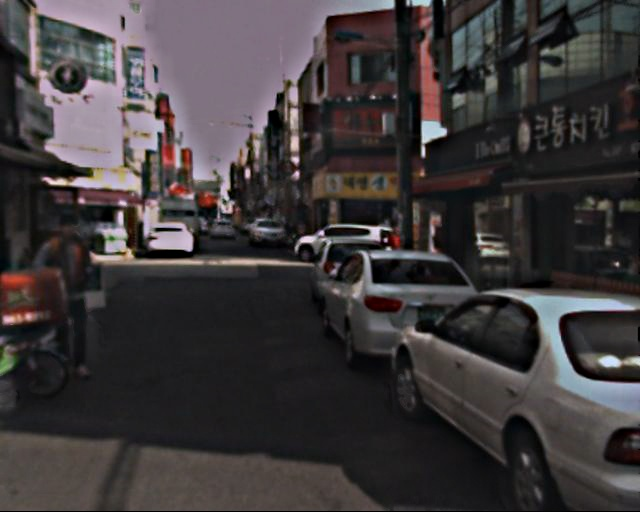person: (38, 212, 108, 375), (387, 226, 405, 270), (431, 223, 449, 266)
